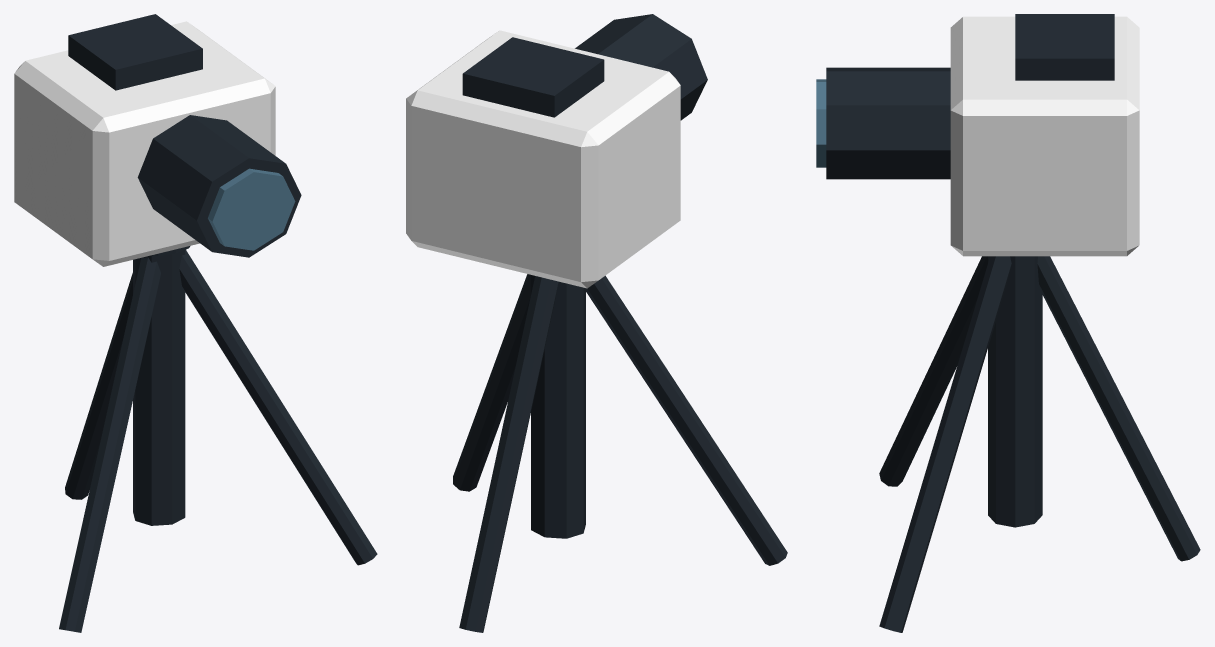
File: studio-camera.glb
3 renders of one model, left to right at view 1: azimuth 30°, elevation 25°; view 2: azimuth 150°, elevation 25°; view 3: azimuth 270°, elevation 25°, orthographic. The views are drawn at different scales.
Parts seen in each view (by area): view 1: beret/studio-camera; view 2: beret/studio-camera; view 3: beret/studio-camera.
Part boxes in pixels (box(x1,y1,x2,y2)): beret/studio-camera: box(14, 14, 377, 632); beret/studio-camera: box(406, 14, 787, 632); beret/studio-camera: box(816, 14, 1200, 632).
Bounding box in the file's own units: 0.8 × 1.2 × 0.8.
